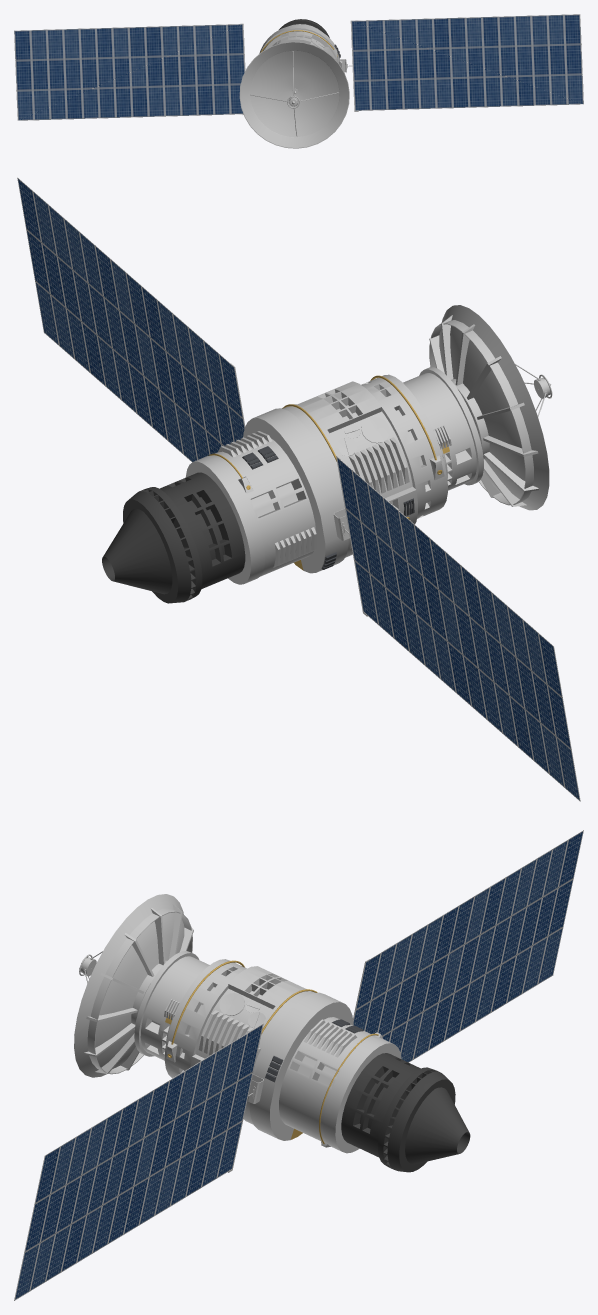
Rendered from simple_satellite_low_poly_free.glb.
3 views of the same model, one above another, from view 1: azimuth 30°, elevation 25°; view 2: azimuth 150°, elevation 25°; view 3: azimuth 270°, elevation 25° (orthographic). The views are drawn at different scales.
Parts seen in each view (by area): view 1: Object_56, Object_4, Object_6; view 2: Object_56, Object_4, Object_6, Object_5; view 3: Object_56, Object_4, Object_6, Object_5.
Boxes of the visible parts, box(x1,y1,x2,y2) form: Object_56: box(14, 14, 583, 120); Object_4: box(239, 20, 358, 148); Object_6: box(279, 19, 329, 37); Object_56: box(17, 177, 580, 801); Object_4: box(185, 305, 552, 616); Object_6: box(102, 472, 245, 603); Object_5: box(208, 375, 449, 570); Object_56: box(14, 830, 583, 1300); Object_4: box(74, 894, 401, 1172); Object_6: box(341, 1053, 470, 1172); Object_5: box(165, 960, 378, 1143).
Bounding box in the file's own units: 13.08 × 3.6 × 8.46.
Materials: 5 (1 with a texture image).
